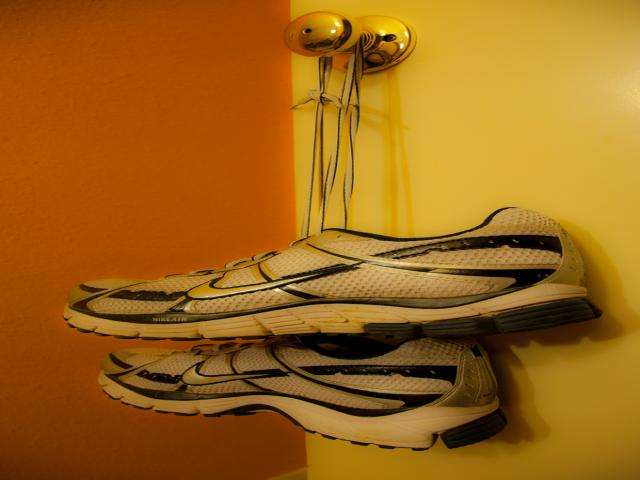Door-handle: (279, 10, 416, 76)
